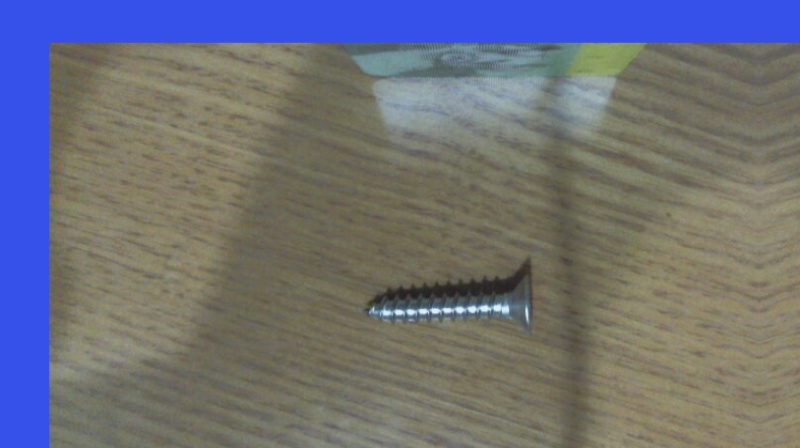S001: (362, 264, 537, 336)
